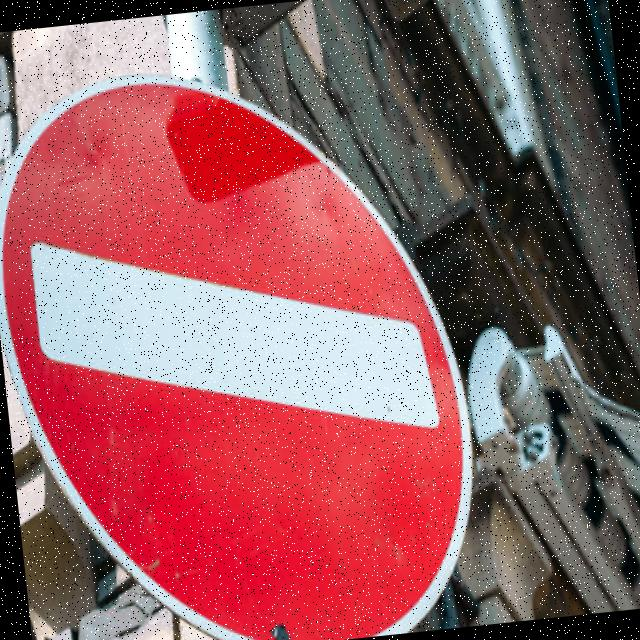do_not_enter: (0, 21, 491, 640)
